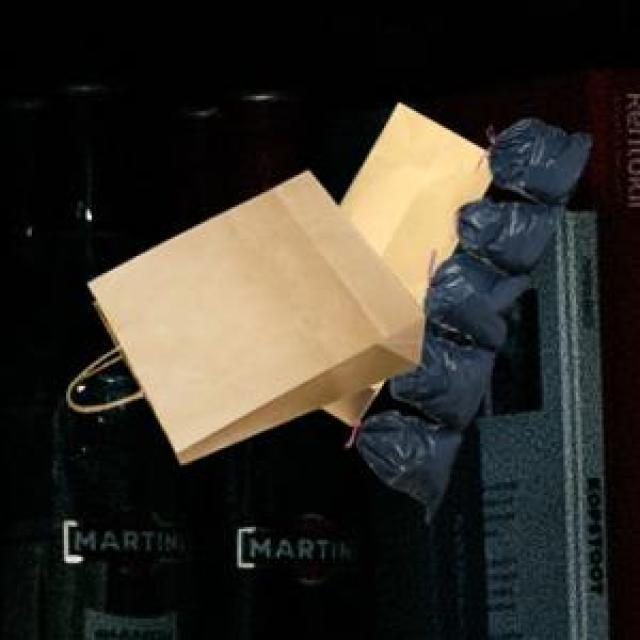miscellaneous trash: (352, 115, 587, 518)
paper: (64, 166, 420, 461), (318, 98, 489, 422)
